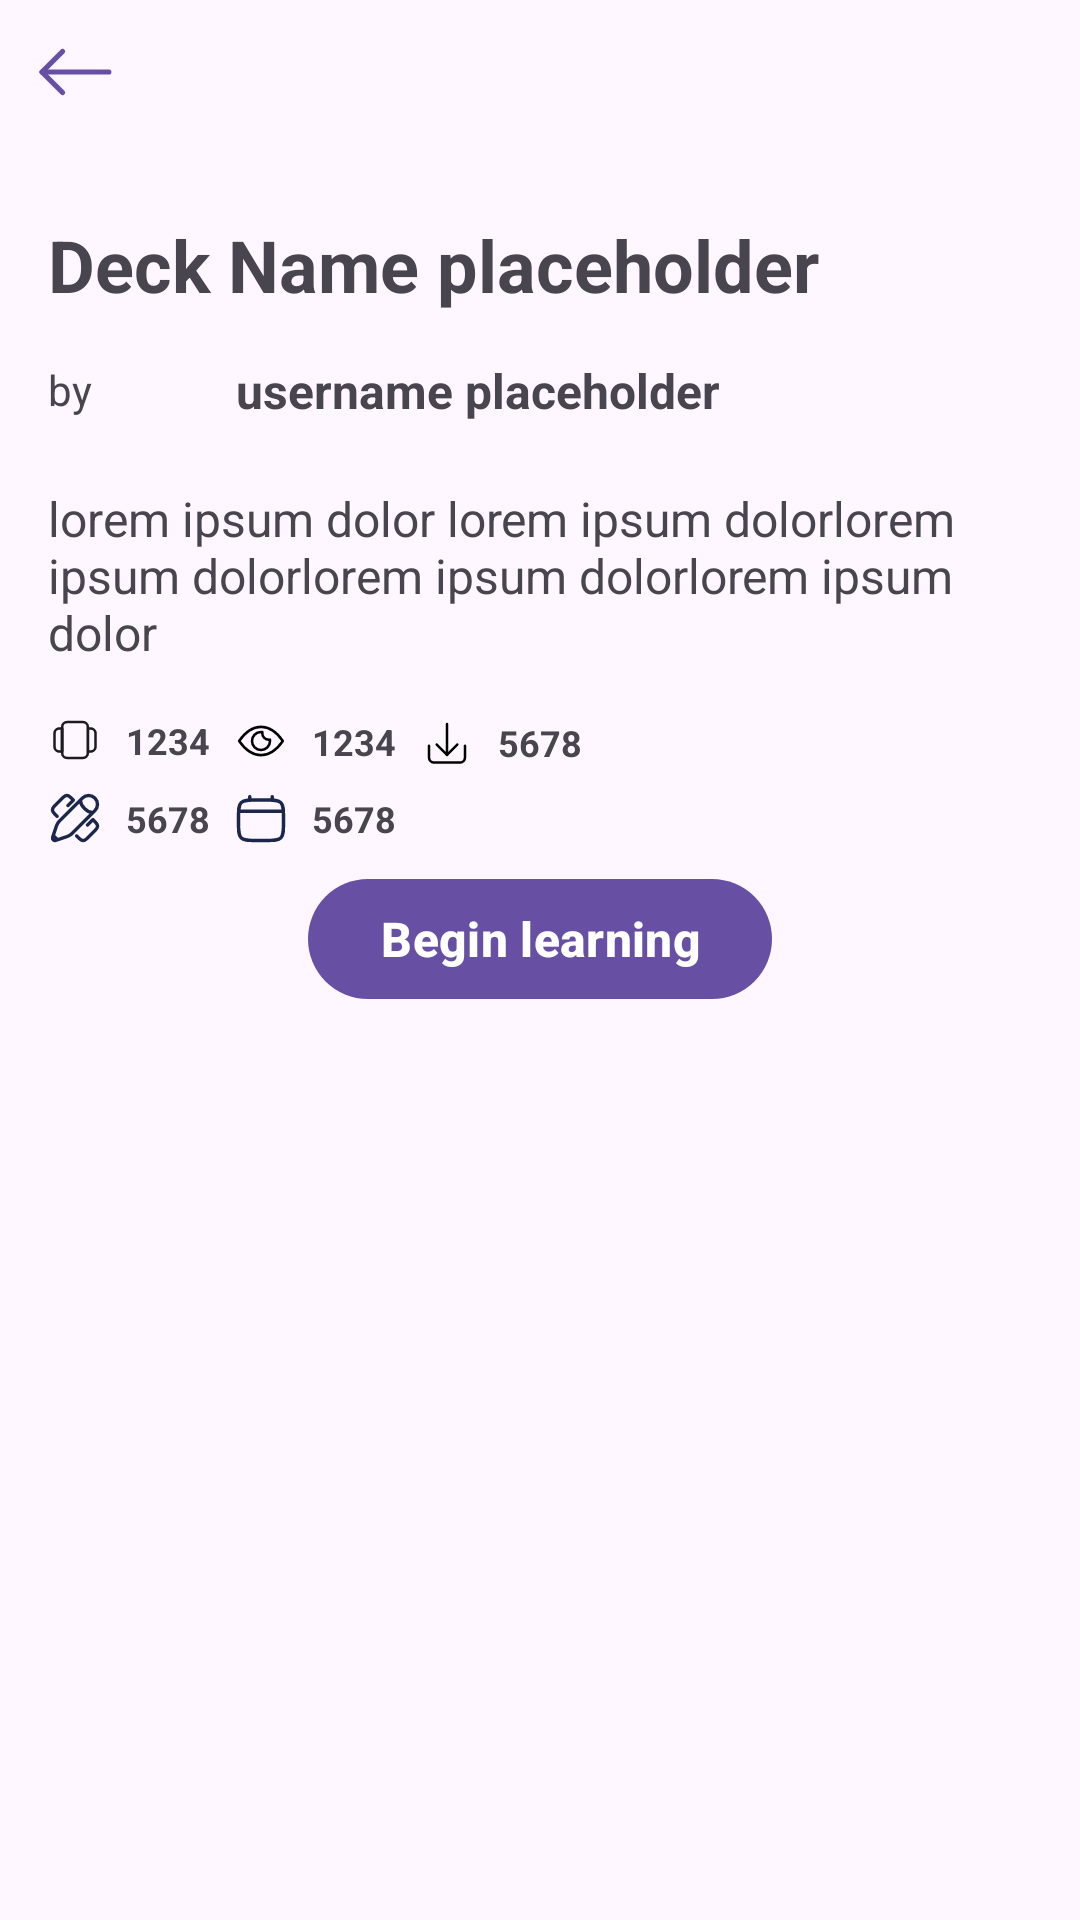

Screen size 1080w x 1920h. Icon name, then its center in pixels as point (x, y):
Back button: point (75, 72)
calendar: point (261, 819)
decks: point (75, 740)
download: point (447, 743)
pen: point (75, 818)
view: point (261, 741)
